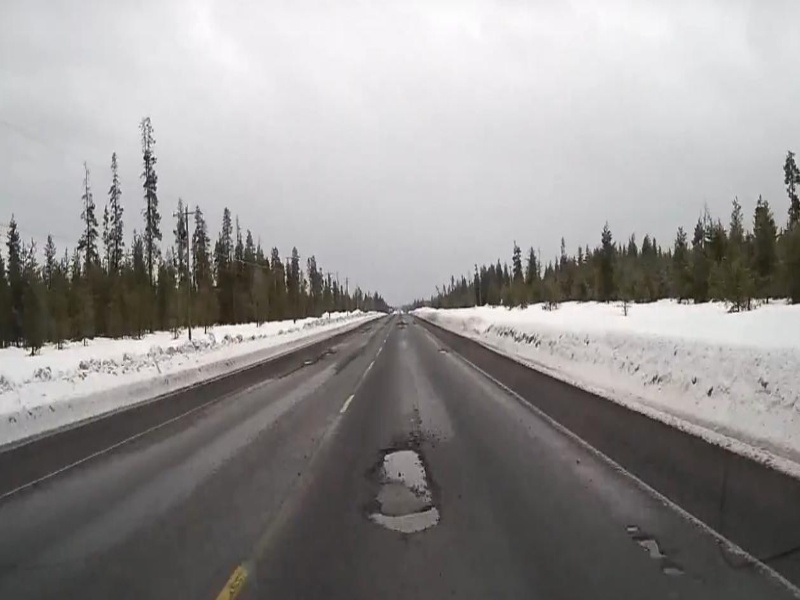pothole: (364, 441, 445, 533), (632, 536, 670, 563)
